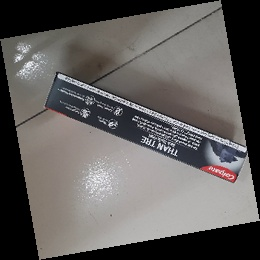Colgate Than: (42, 71, 248, 186)
